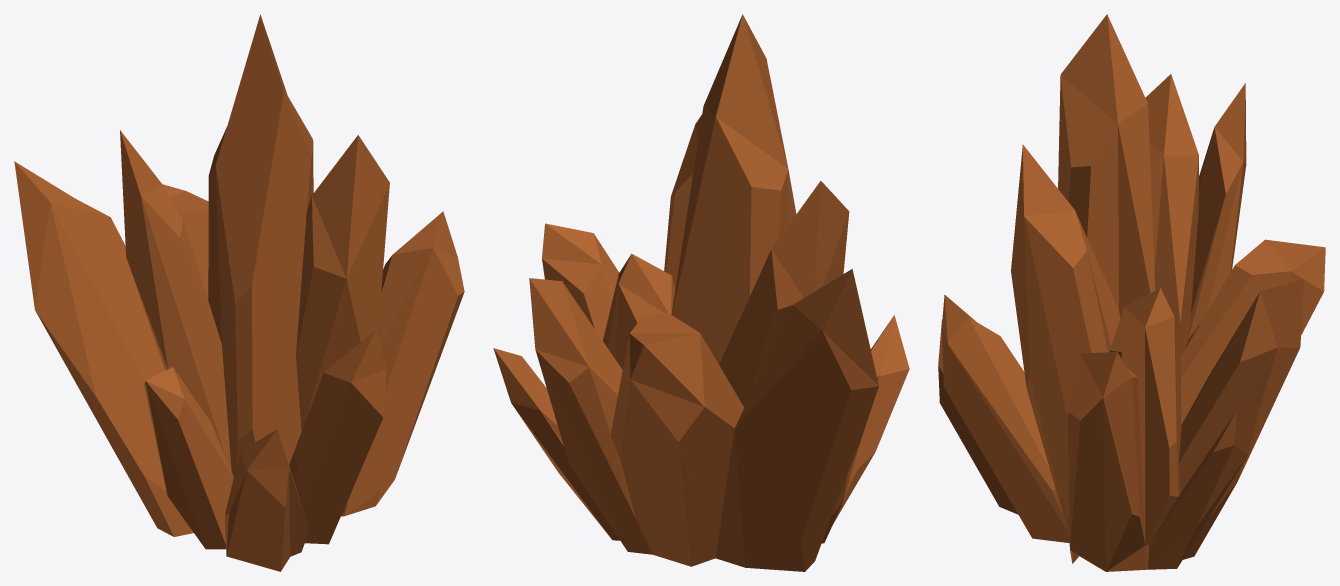
Rendered from orangemal.fbx.
The picture shows the model from 3 angles, left to right: view 1: azimuth 30°, elevation 25°; view 2: azimuth 150°, elevation 25°; view 3: azimuth 270°, elevation 25°; orthographic projection. The views are drawn at different scales.
Visible parts, largest first — view 1: Cube.004; view 2: Cube.004; view 3: Cube.004.
Part boxes in pixels (left/top/right/bottom): Cube.004: left=14, top=14, right=464, bottom=571; Cube.004: left=493, top=14, right=909, bottom=571; Cube.004: left=938, top=14, right=1325, bottom=571.
Bounding box in the file's own units: 295 × 384 × 264.
